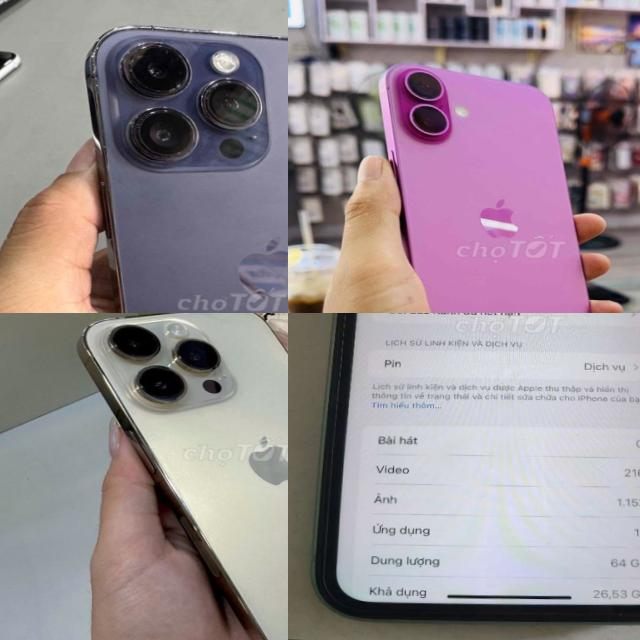scratch: (86, 40, 108, 88), (382, 76, 397, 95)
